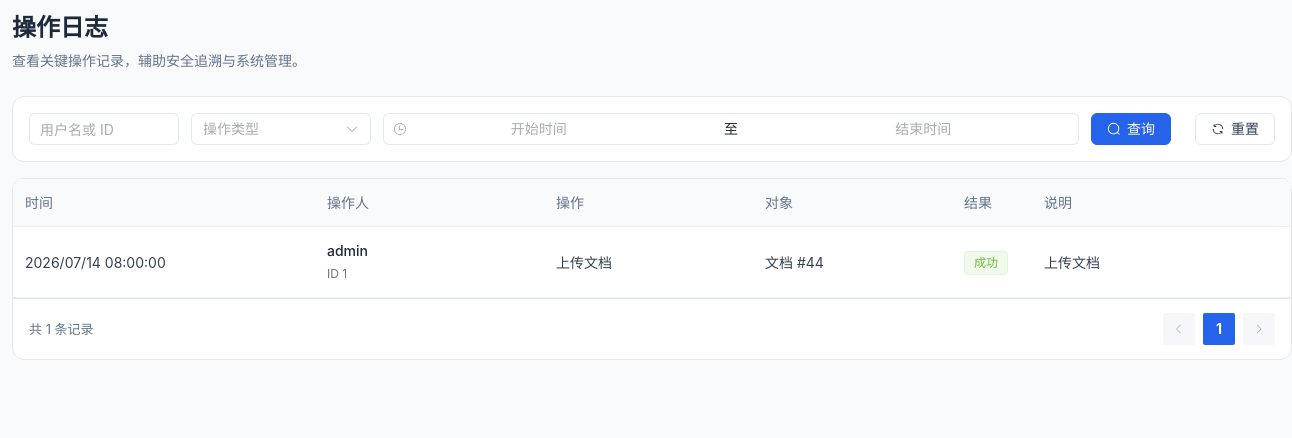
Scenario: AuditLogView › clears stale rows when a filtered request fails
Type "admin" into the field named "操作人用户名或 ID".
click(104, 129); type("admin")  # box [40,114,168,144]
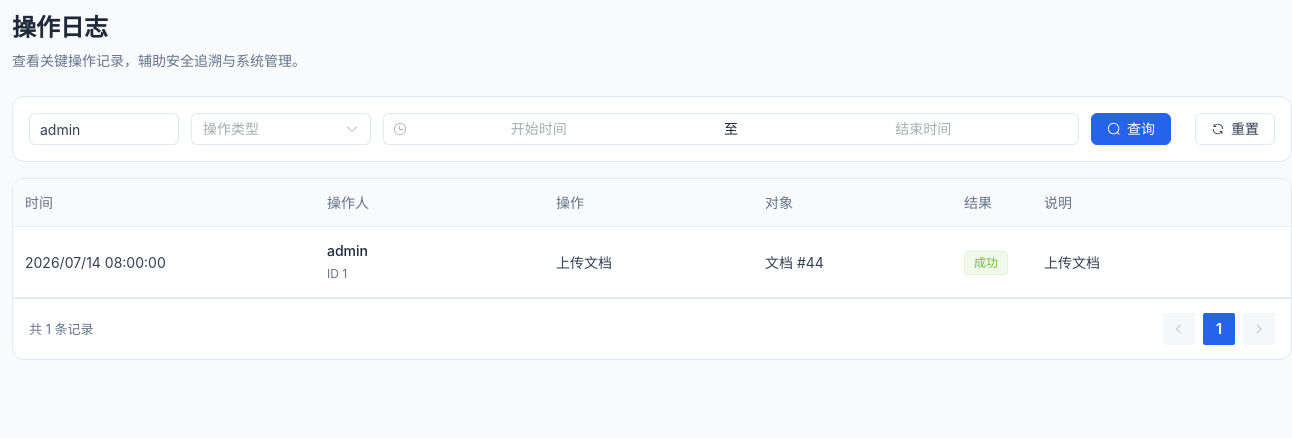
Click the button with test id "audit-search".
click(1131, 129)  # box [1091,113,1171,145]
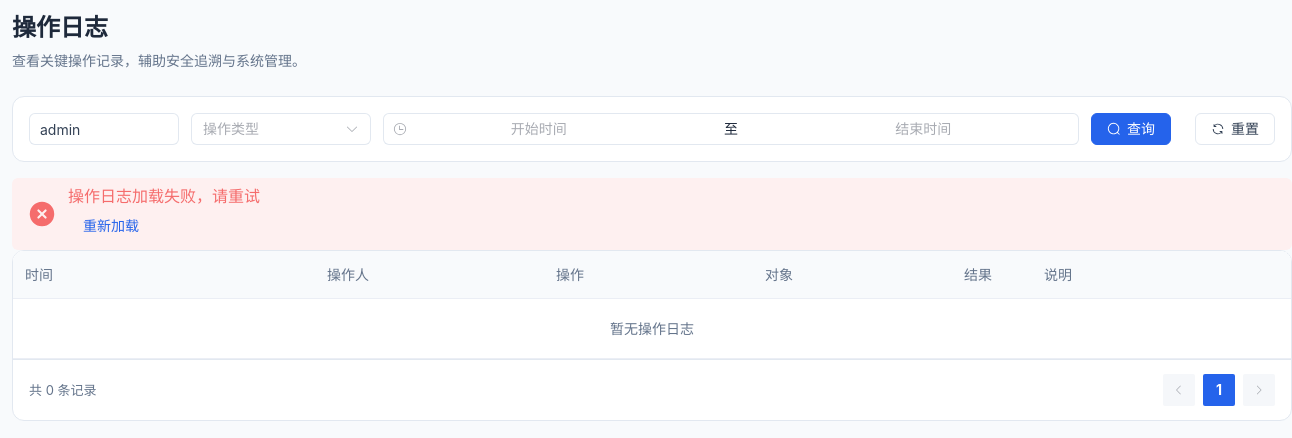
Now the text "操作日志加载失败，请重试" is shown, box [68,186,260,206]
Now the text "文档 #44" is gone
Now the text "共 0 条记录" is shown, box [29,379,96,401]
